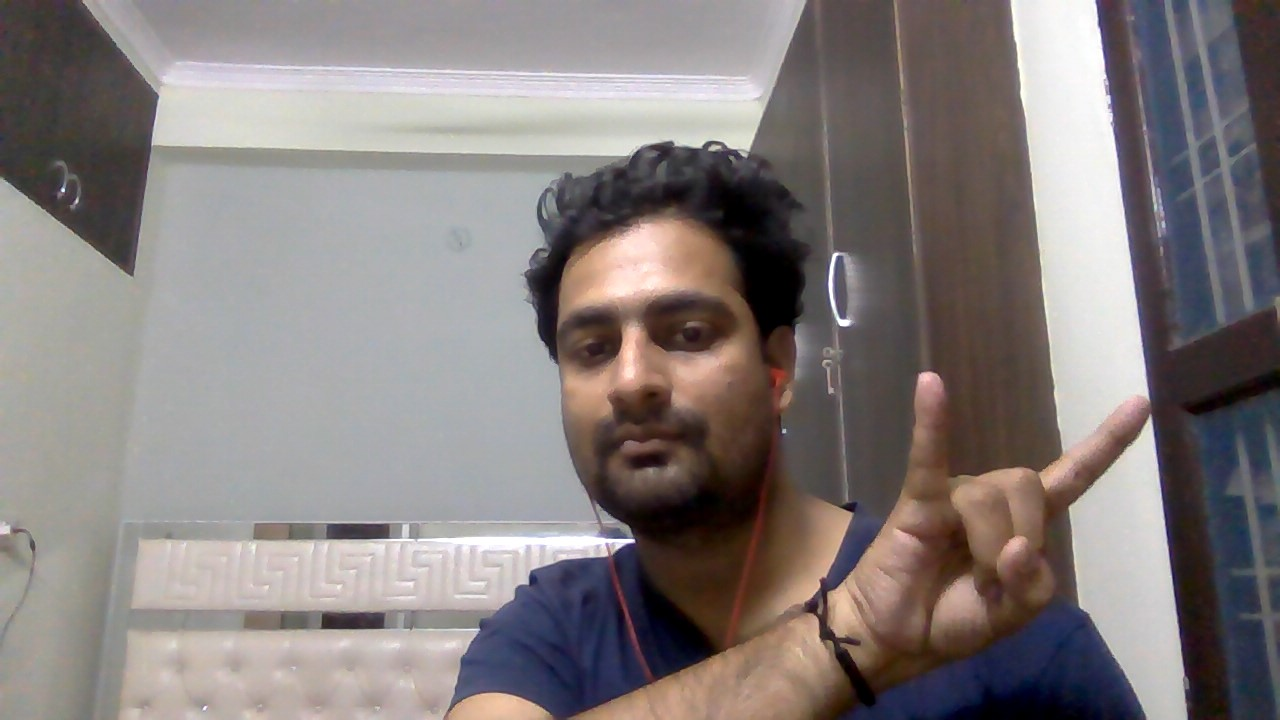Select All: (857, 364, 1160, 672)
